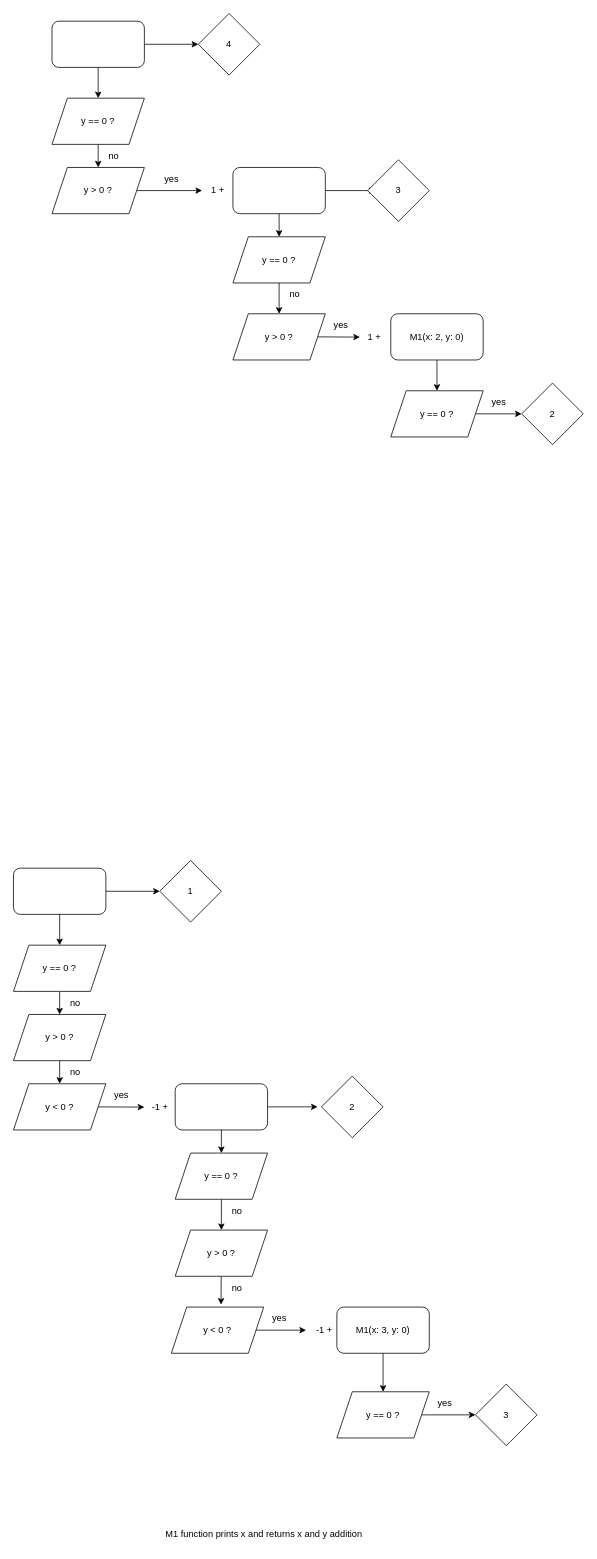
Image size: 597x1559. Some labels were removed from this diagram. Each missing label, with the box of its shape:
M1(x: 2, y: 1): (232, 167, 325, 214)
M1(x: 2, y: 2): (51, 20, 144, 67)
M1(x: 3, y: -1): (174, 1083, 268, 1130)
M1(x: 3, y: -2): (13, 867, 106, 914)
